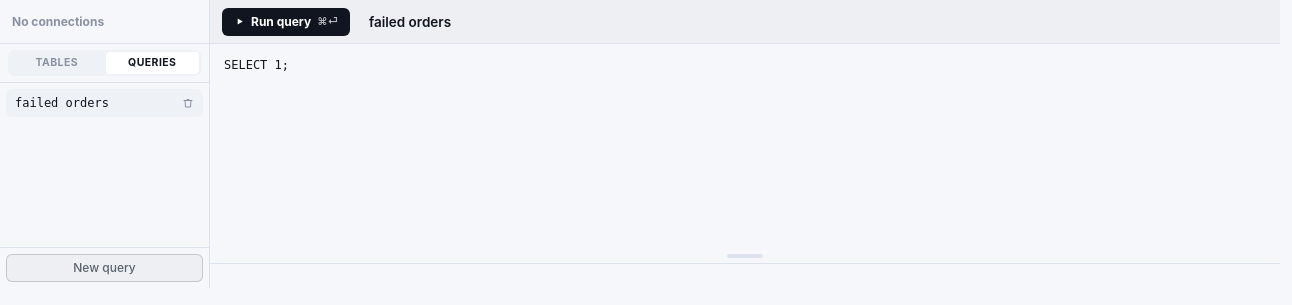
QueryTab › renames into the store immediately and into the database once, debounced
This screenshot has width=1292, height=305.
Replace the text in the field named "Query name" with "failed order" at (815, 22), box x1=360 y1=8 x2=1270 y2=36
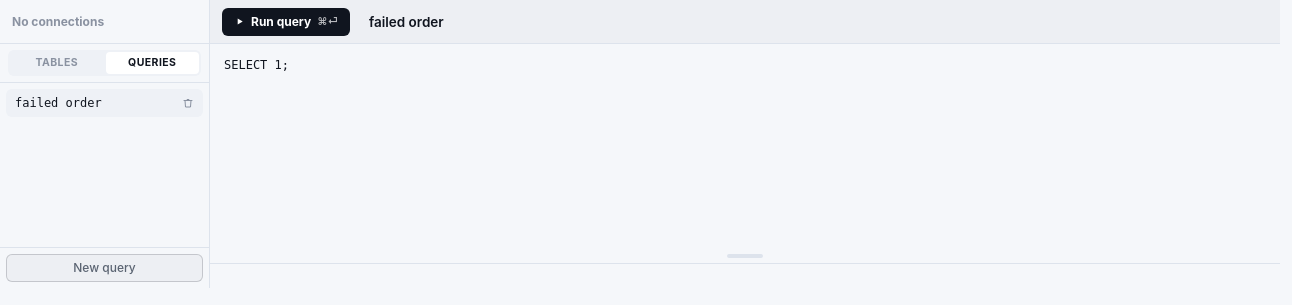
Replace the text in the field named "Query name" with "failed orders today" at (815, 22), box x1=360 y1=8 x2=1270 y2=36
Wait 300 ms
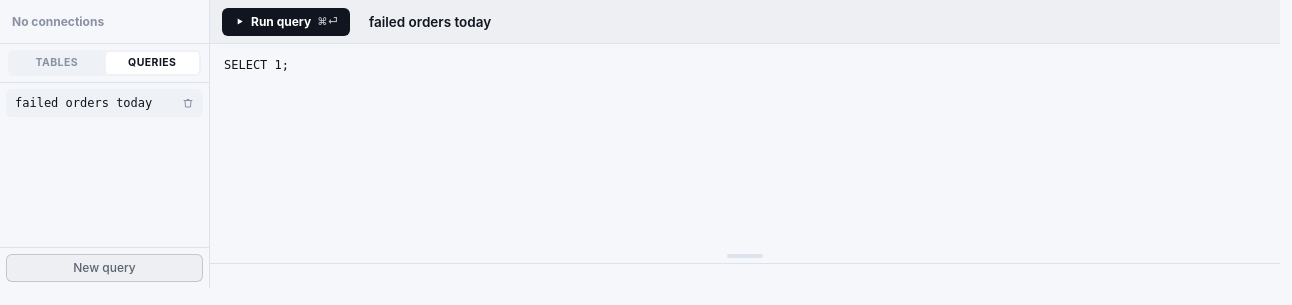
Check: the button "failed orders today" is shown, box x1=15 y1=95 x2=174 y2=111
